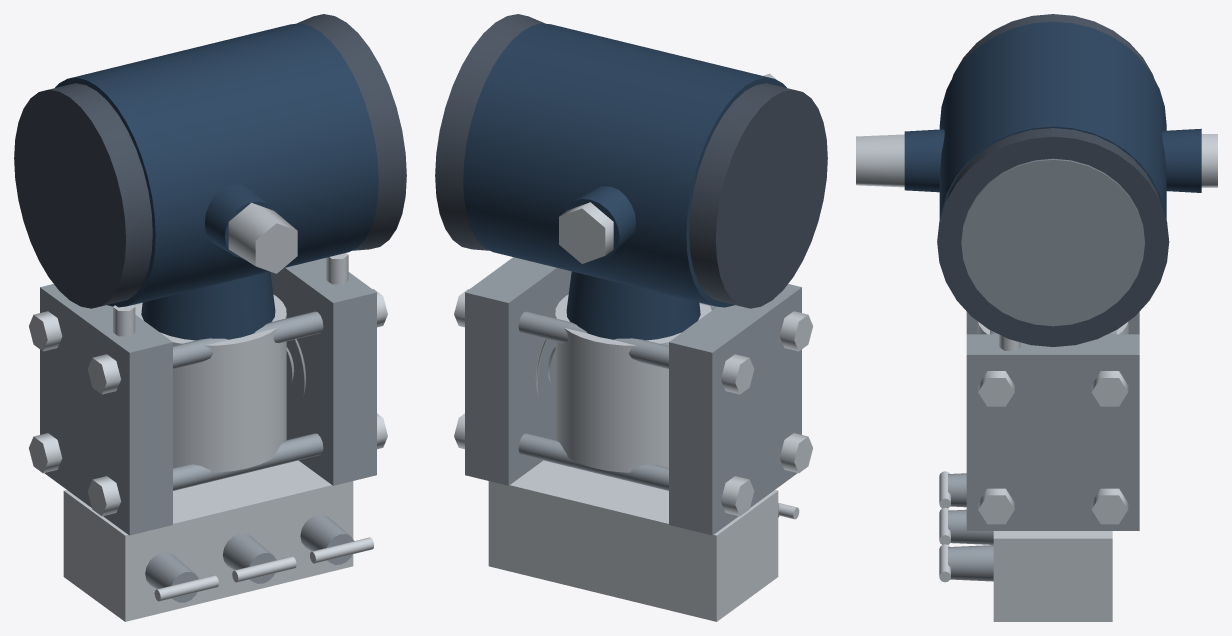
Rendered from dp-transmitter.glb.
3 views of the same model, side by side, from view 1: azimuth 30°, elevation 25°; view 2: azimuth 150°, elevation 25°; view 3: azimuth 270°, elevation 25° (orthographic). The views are drawn at different scales.
Parts seen in each view (by area): view 1: dpt_housing, dpt_process_flanges, dpt_manifold, dpt_sensor_module, dpt_conduit_entry; view 2: dpt_housing, dpt_process_flanges, dpt_manifold, dpt_sensor_module, dpt_conduit_entry; view 3: dpt_housing, dpt_process_flanges, dpt_lcd_module, dpt_manifold, dpt_conduit_entry.
Part boxes in pixels (<box>): dpt_housing: <box>14,14,406,340</box>; dpt_process_flanges: <box>29,253,387,535</box>; dpt_manifold: <box>63,460,374,621</box>; dpt_sensor_module: <box>134,294,286,472</box>; dpt_conduit_entry: <box>205,184,297,273</box>; dpt_housing: <box>435,14,827,340</box>; dpt_process_flanges: <box>454,257,812,535</box>; dpt_manifold: <box>488,460,799,621</box>; dpt_sensor_module: <box>555,294,711,472</box>; dpt_conduit_entry: <box>559,73,777,263</box>; dpt_housing: <box>937,14,1169,346</box>; dpt_process_flanges: <box>966,312,1139,530</box>; dpt_lcd_module: <box>961,159,1144,326</box>; dpt_manifold: <box>939,471,1112,621</box>; dpt_conduit_entry: <box>856,128,1217,192</box>.
Size of the model in its own units: 1.16 by 2.03 by 1.34.
